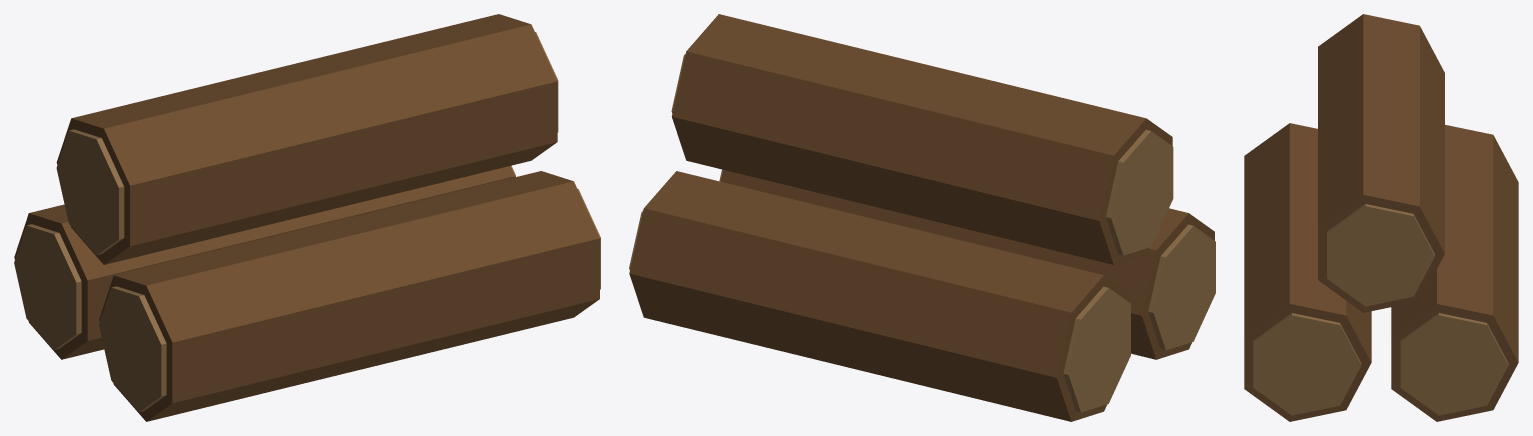
File: objet_bois.glb
3 renders of one model, left to right at view 1: azimuth 30°, elevation 25°; view 2: azimuth 150°, elevation 25°; view 3: azimuth 270°, elevation 25°, orthographic. The views are drawn at different scales.
Parts seen in each view (by area): view 1: bois_ecorce.002, bois_bois.002; view 2: bois_ecorce.002, bois_bois.002; view 3: bois_ecorce.002, bois_bois.002.
Boxes of the visible parts, bbox=[...] form: bois_ecorce.002: bbox=[14, 14, 599, 421]; bois_bois.002: bbox=[14, 32, 600, 412]; bois_ecorce.002: bbox=[629, 14, 1214, 421]; bois_bois.002: bbox=[629, 54, 1215, 412]; bois_ecorce.002: bbox=[1244, 14, 1518, 421]; bois_bois.002: bbox=[1253, 204, 1508, 415].
Size of the model in its own units: 0.329 by 0.1875 by 0.205.
